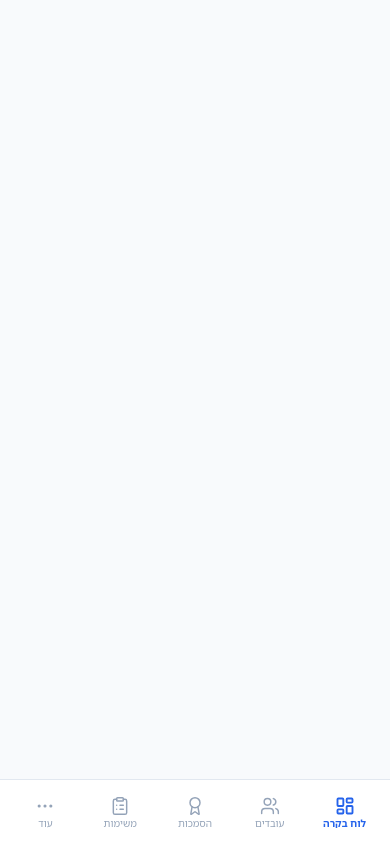
Test: Sidebar — mobile nav: 4 pinned + עוד › opens the sheet and exposes the 4 overflow items when 'עוד' is clicked
Click the button with aria-label "עוד אפשרויות ניווט".
click(45, 812)  # box [8,790,83,834]
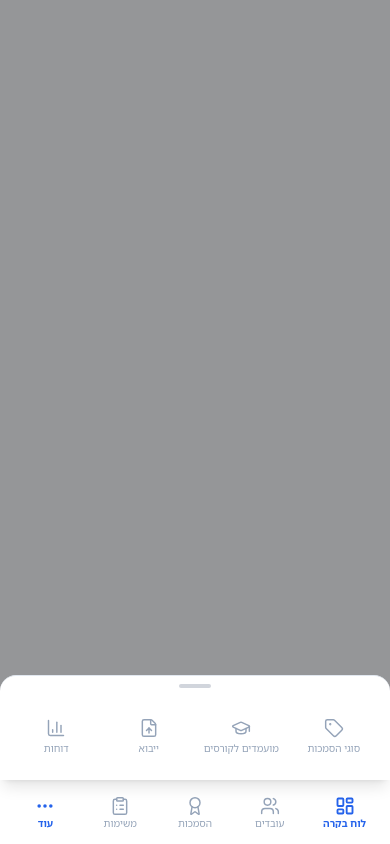
Expected: the dialog named "ניווט משני" is shown, [0,675,389,780]
Expected: the button with aria-label "עוד אפשרויות ניווט" is expanded, [8,790,83,834]
Expected: the link to "/dashboard/cert-types" is shown, [307,718,360,755]
